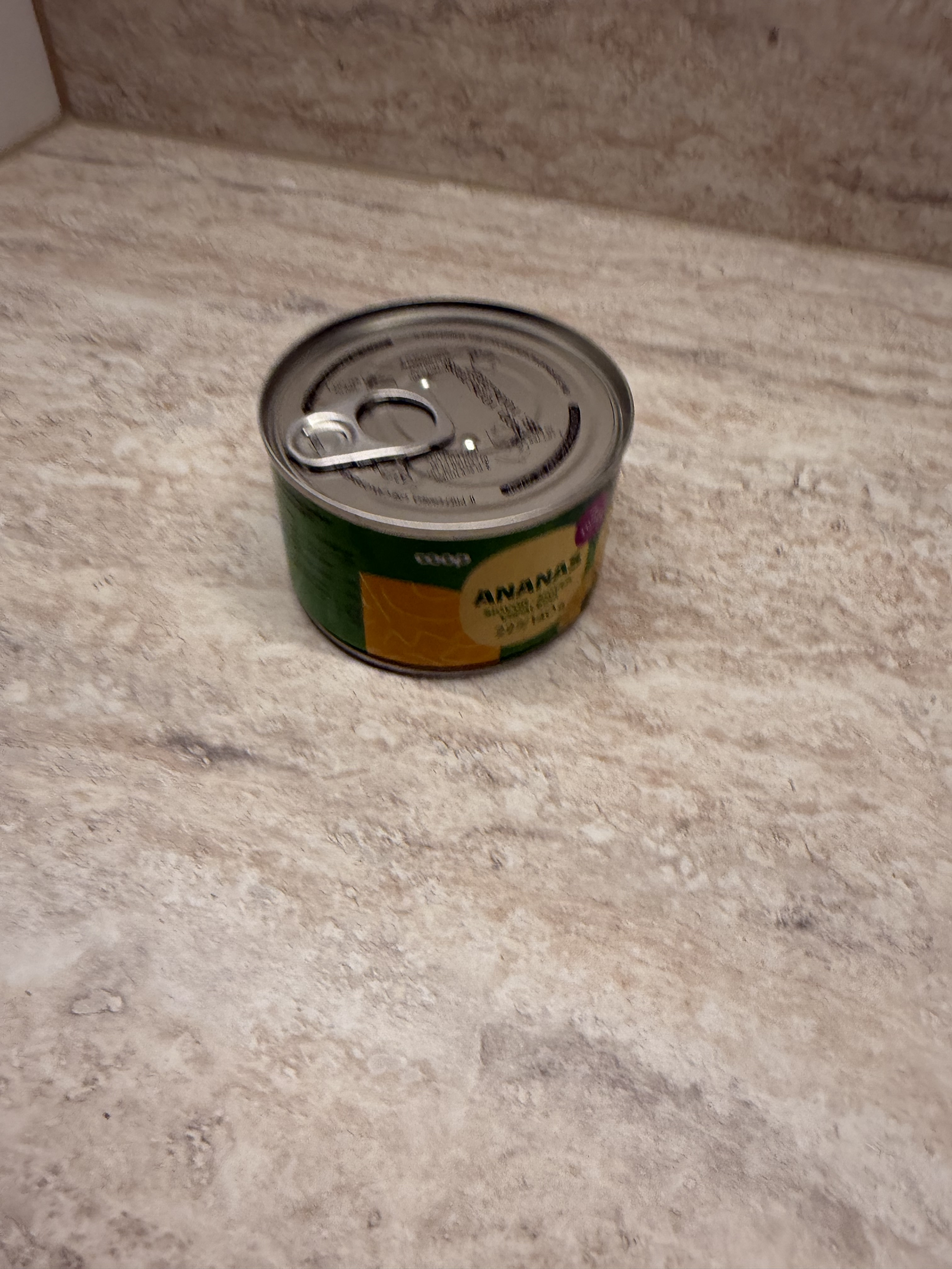Konservburk: (245, 303, 645, 684)
